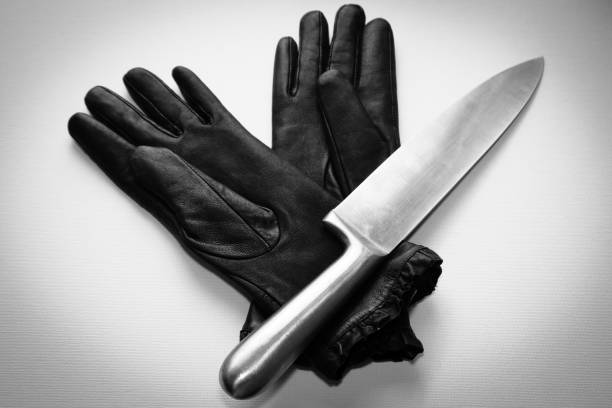knife: (216, 54, 546, 403)
